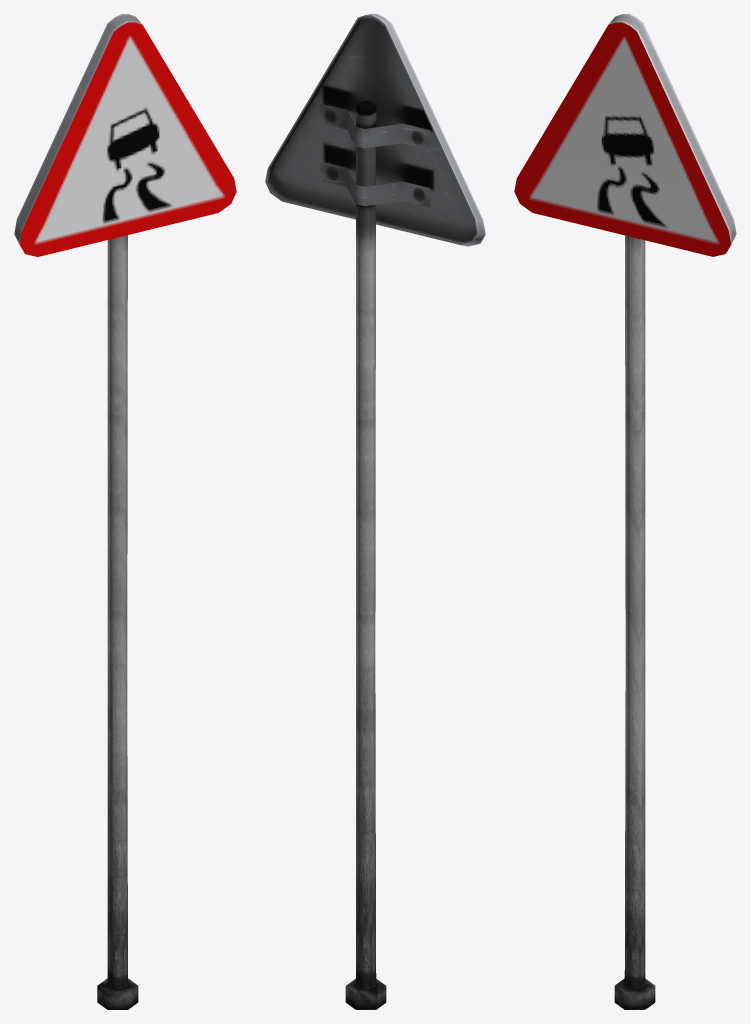
File: ROD0310079.FBX
The picture shows the model from 3 angles, left to right: view 1: azimuth 30°, elevation 25°; view 2: azimuth 150°, elevation 25°; view 3: azimuth 330°, elevation 25°; orthographic projection.
Visible parts, largest first — view 1: smROD0310079; view 2: smROD0310079; view 3: smROD0310079.
Part boxes in pixels (x1,y1,x2,y2): smROD0310079: [14, 14, 236, 1009]; smROD0310079: [265, 14, 485, 1009]; smROD0310079: [514, 14, 736, 1009].
Bounding box in the file's own units: 0.7052 × 3.08 × 0.1216.
Materials: 1 (1 with a texture image).
